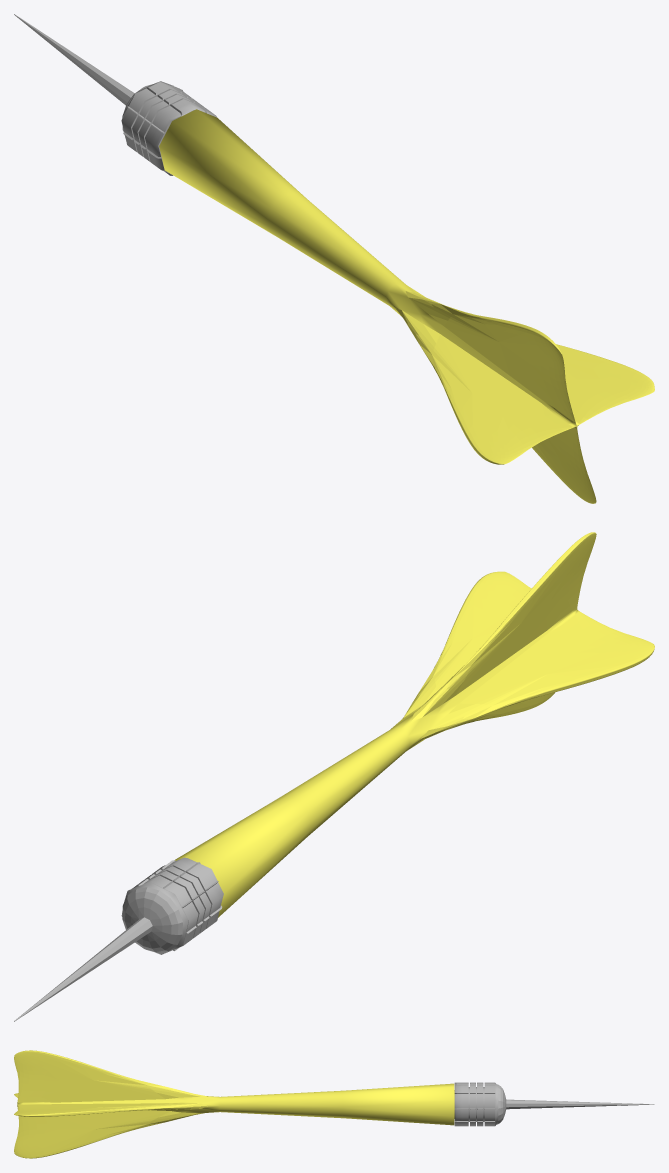
File: dart.obj
The picture shows the model from 3 angles, top to bottom: view 1: azimuth 30°, elevation 25°; view 2: azimuth 150°, elevation 25°; view 3: azimuth 270°, elevation 25°; orthographic projection. The views are drawn at different scales.
Parts seen in each view (by area): view 1: Cylinder001, Cylinder002, Cylinder003; view 2: Cylinder001, Cylinder003, Cylinder002; view 3: Cylinder001, Cylinder002, Cylinder003.
Boxes of the visible parts, left/top/right/bottom form: Cylinder001: left=159, top=109, right=654, bottom=503; Cylinder002: left=121, top=82, right=216, bottom=175; Cylinder003: left=14, top=14, right=182, bottom=136; Cylinder001: left=174, top=532, right=654, bottom=917; Cylinder003: left=14, top=881, right=188, bottom=1021; Cylinder002: left=132, top=857, right=223, bottom=954; Cylinder001: left=14, top=1050, right=454, bottom=1158; Cylinder002: left=454, top=1082, right=495, bottom=1126; Cylinder003: left=495, top=1083, right=654, bottom=1125.
Bounding box in the file's own units: 12 × 11.92 × 70.98.
